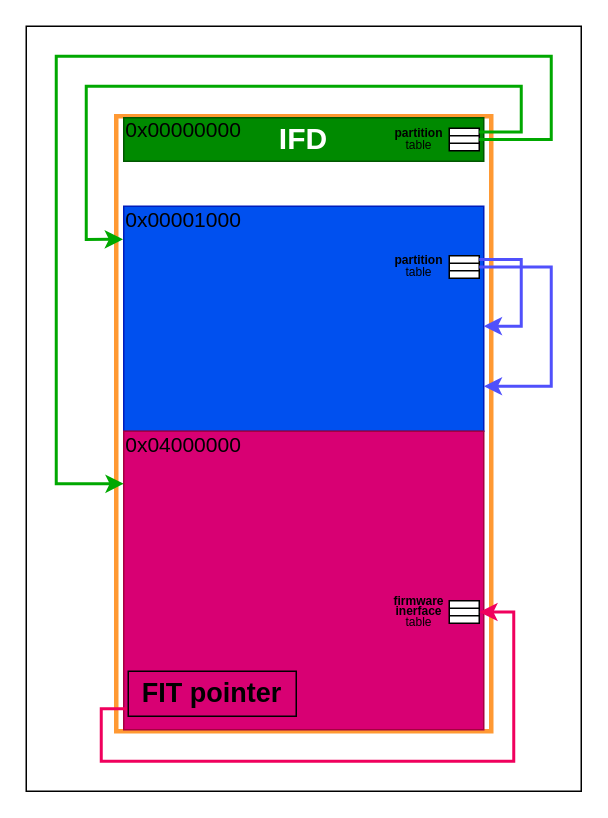
Image size: 608x818. Some labels were removed from this diagram. Here are the shapes that lost their labels. From the top down, the box of each, then its label:
(122, 205, 484, 431): CSME
(122, 430, 484, 730): "BIOS"
